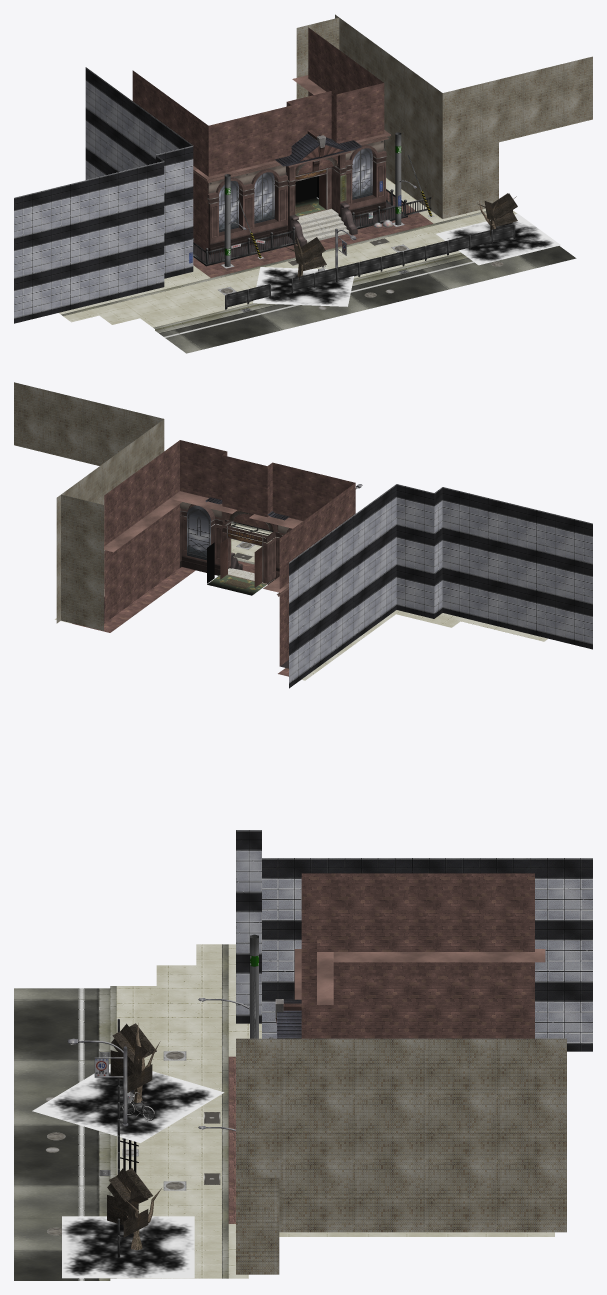
The model's file is iwatodai_streets.obj.
3 views of the same model, one above another, from view 1: azimuth 30°, elevation 25°; view 2: azimuth 150°, elevation 25°; view 3: azimuth 270°, elevation 25° (orthographic). The views are drawn at different scales.
Visible parts, largest first — view 1: 5_BaseWeight(45)_1_0_0.003, 5_BaseWeight(46)_1_0_0.003, 5_BaseWeight(5)_1_0_0.003, 5_BaseWeight(17)_1_0_0.003, 5_BaseWeight(18)_1_0_0.003, 5_BaseWeight(3)_1_0_0.003, 7_BaseWeight(35)_1_0_0.003, 7_BaseWeight(40)_1_0_0.003, 5_BaseWeight(14)_1_0_0.003, 5_BaseWeight(13)_1_0_0.003, 7_BaseWeight(42)_1_0_0.004, 7_BaseWeight(7)_1_0_0.003 (+11 smaller); view 2: 5_BaseWeight(45)_1_0_0.003, 5_BaseWeight(46)_1_0_0.003, 5_BaseWeight(5)_1_0_0.003, 5_BaseWeight(2)_1_0_0.003, 5_BaseWeight(3)_1_0_0.003, 5_BaseWeight(44)_1_0_0.003, 5_BaseWeight(14)_1_0_0.003, 5_BaseWeight(4)_1_0_0.003, 5_BaseWeight(15)_1_0_0.003, 5_BaseWeight_1_0_0.003, 5_BaseWeight(27)_1_0_0.003, 5_BaseWeight(18)_1_0_0.003; view 3: 5_BaseWeight(46)_1_0_0.003, 5_BaseWeight(5)_1_0_0.003, 5_BaseWeight(17)_1_0_0.003, 5_BaseWeight(45)_1_0_0.003, 5_BaseWeight(18)_1_0_0.003, 7_BaseWeight(35)_1_0_0.003, 5_BaseWeight(2)_1_0_0.003, 7_BaseWeight(7)_1_0_0.003, 5_BaseWeight(44)_1_0_0.003, 5_BaseWeight(15)_1_0_0.003, 5_BaseWeight(14)_1_0_0.003, 5_BaseWeight(43)_1_0_0.003 (+2 smaller).
Part boxes in pixels (<box>): 5_BaseWeight(45)_1_0_0.003: <box>14,67,193,323</box>; 5_BaseWeight(46)_1_0_0.003: <box>296,14,592,218</box>; 5_BaseWeight(5)_1_0_0.003: <box>132,27,384,176</box>; 5_BaseWeight(17)_1_0_0.003: <box>61,211,576,353</box>; 5_BaseWeight(18)_1_0_0.003: <box>63,210,517,327</box>; 5_BaseWeight(3)_1_0_0.003: <box>207,145,386,254</box>; 7_BaseWeight(35)_1_0_0.003: <box>253,213,560,306</box>; 7_BaseWeight(40)_1_0_0.003: <box>225,224,515,309</box>; 5_BaseWeight(14)_1_0_0.003: <box>193,191,433,277</box>; 5_BaseWeight(13)_1_0_0.003: <box>219,148,370,229</box>; 7_BaseWeight(42)_1_0_0.004: <box>193,189,431,266</box>; 7_BaseWeight(7)_1_0_0.003: <box>285,193,517,281</box>; 5_BaseWeight(45)_1_0_0.003: <box>289,484,592,688</box>; 5_BaseWeight(46)_1_0_0.003: <box>14,382,164,630</box>; 5_BaseWeight(5)_1_0_0.003: <box>104,440,355,588</box>; 5_BaseWeight(2)_1_0_0.003: <box>104,504,288,666</box>; 5_BaseWeight(3)_1_0_0.003: <box>180,504,292,584</box>; 5_BaseWeight(44)_1_0_0.003: <box>104,491,302,596</box>; 5_BaseWeight(14)_1_0_0.003: <box>72,560,288,676</box>; 5_BaseWeight(4)_1_0_0.003: <box>181,510,283,587</box>; 5_BaseWeight(15)_1_0_0.003: <box>55,589,547,680</box>; 5_BaseWeight_1_0_0.003: <box>187,505,289,560</box>; 5_BaseWeight(27)_1_0_0.003: <box>207,574,267,595</box>; 5_BaseWeight(18)_1_0_0.003: <box>219,523,278,562</box>; 5_BaseWeight(46)_1_0_0.003: <box>236,1038,566,1274</box>; 5_BaseWeight(5)_1_0_0.003: <box>301,873,534,1038</box>; 5_BaseWeight(17)_1_0_0.003: <box>14,944,228,1280</box>; 5_BaseWeight(45)_1_0_0.003: <box>236,830,592,1051</box>; 5_BaseWeight(18)_1_0_0.003: <box>116,944,221,1278</box>; 7_BaseWeight(35)_1_0_0.003: <box>32,1064,224,1278</box>; 5_BaseWeight(2)_1_0_0.003: <box>333,962,534,1004</box>; 7_BaseWeight(7)_1_0_0.003: <box>107,1023,156,1237</box>; 5_BaseWeight(44)_1_0_0.003: <box>294,949,545,1004</box>; 5_BaseWeight(15)_1_0_0.003: <box>228,944,554,1278</box>; 5_BaseWeight(14)_1_0_0.003: <box>228,1056,235,1223</box>; 5_BaseWeight(43)_1_0_0.003: <box>275,999,301,1038</box>.
Size of the model in its own units: 50.52 by 10.94 by 28.47.
Materials: 44 (44 with a texture image).
